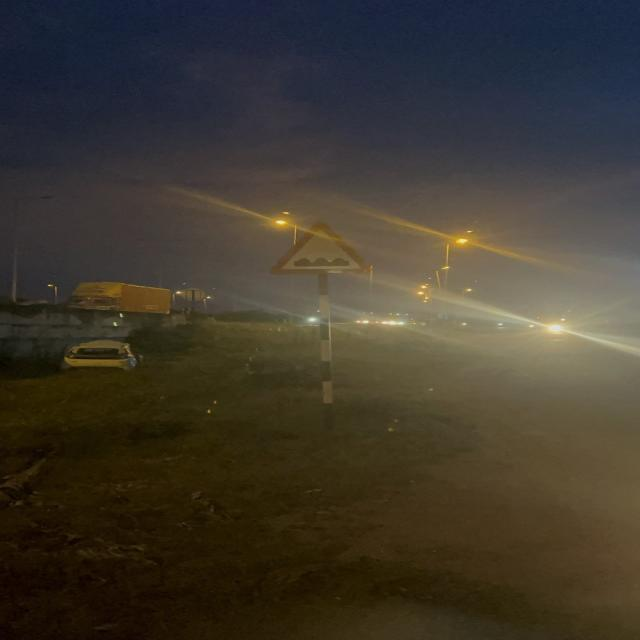Rumble_strip: (273, 222, 370, 279)
